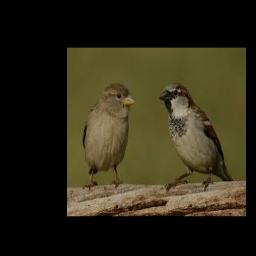Sparrow: (159, 82, 235, 190), (83, 83, 136, 191)
